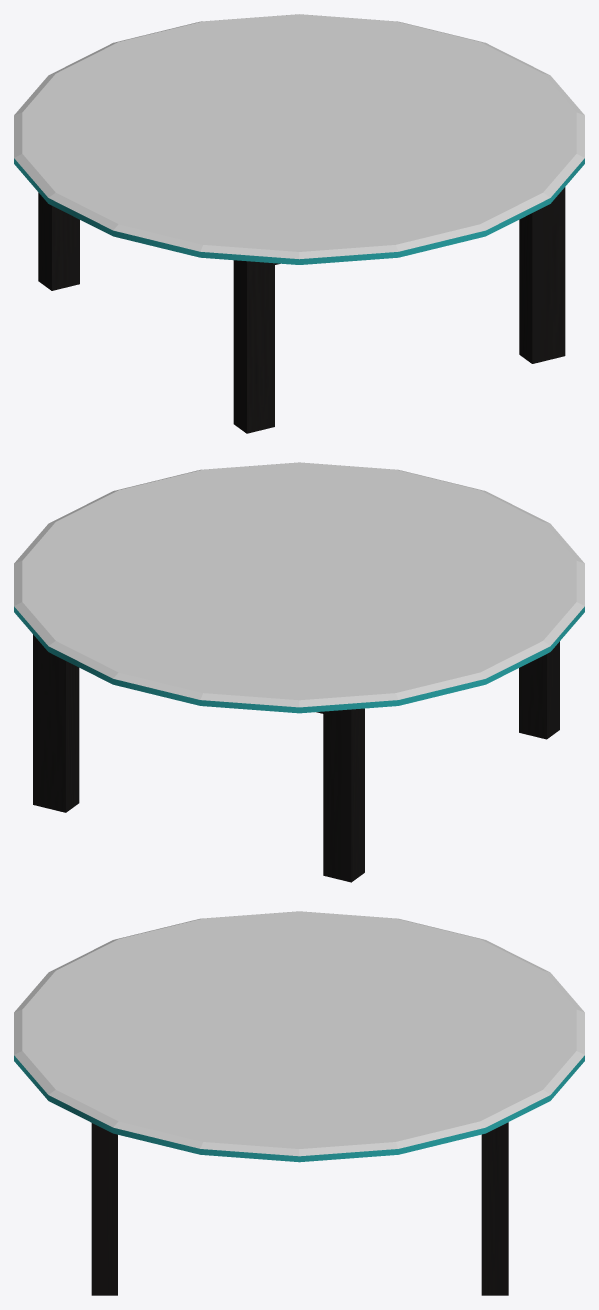
File: Round Table_A.FBX
3 views of the same model, one above another, from view 1: azimuth 30°, elevation 25°; view 2: azimuth 150°, elevation 25°; view 3: azimuth 270°, elevation 25° (orthographic).
Parts seen in each view (by area): view 1: Round Dining table; view 2: Round Dining table; view 3: Round Dining table.
Boxes of the visible parts, left/top/right/bottom form: Round Dining table: left=14, top=14, right=584, bottom=433; Round Dining table: left=14, top=462, right=584, bottom=882; Round Dining table: left=14, top=911, right=584, bottom=1295.
Bounding box in the file's own units: 360 × 128 × 355.
